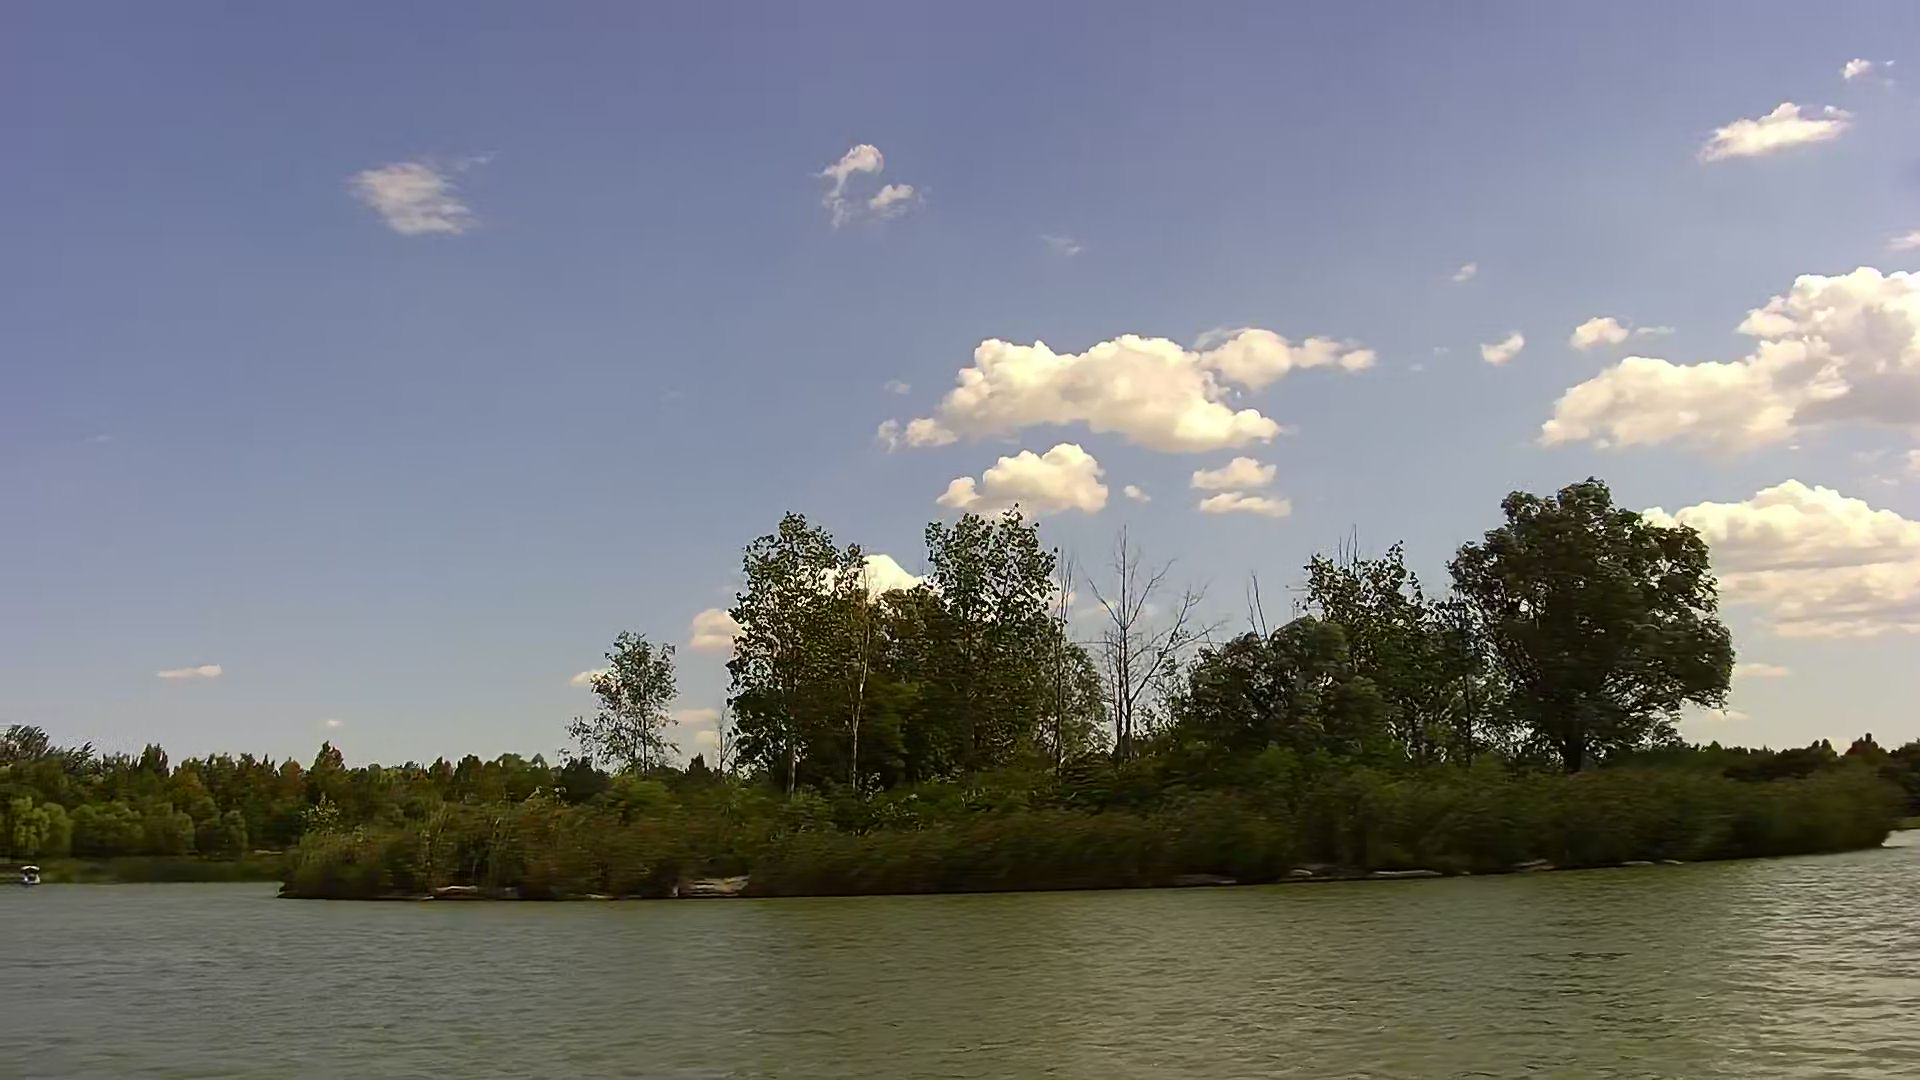rock: (433, 881, 498, 901), (690, 872, 744, 895)
